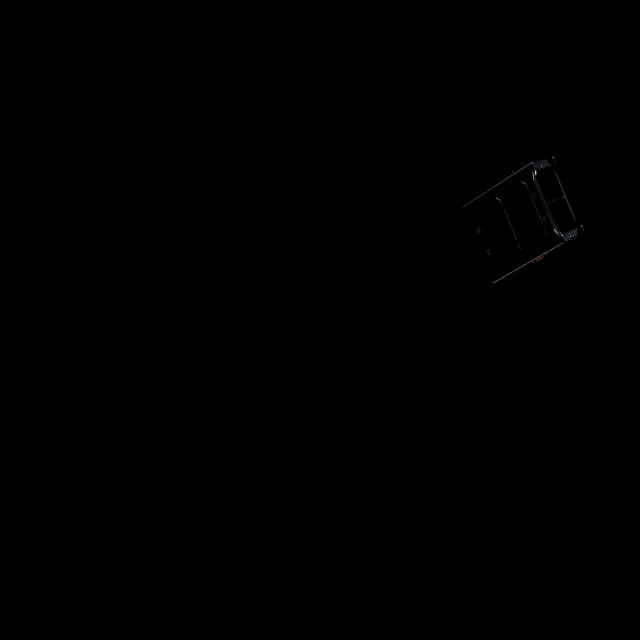medium_debris: (456, 147, 587, 291)
